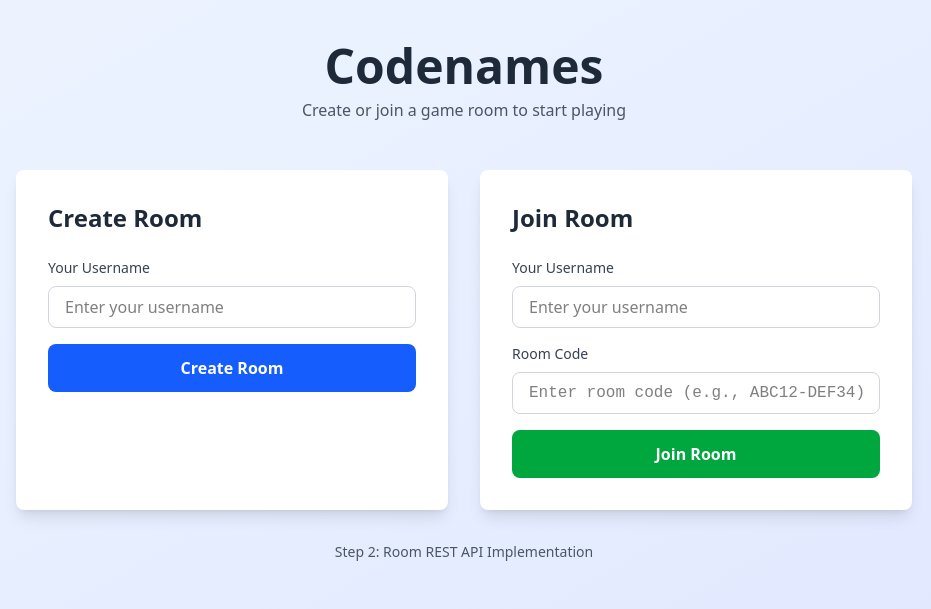
Test: HomePage › should show error when room code is empty
This screenshot has width=931, height=609.
Type "TestUser" into the 2nd field with placeholder "Enter your username".
click(696, 307); type("TestUser")  # box [512,286,880,328]
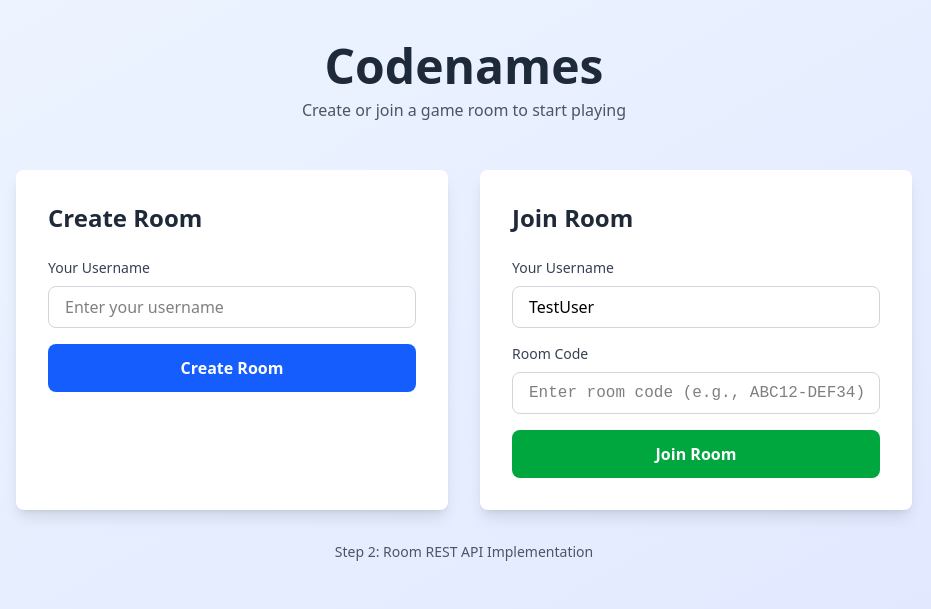
Click the button "Join Room".
click(696, 454)  # box [512,430,880,478]
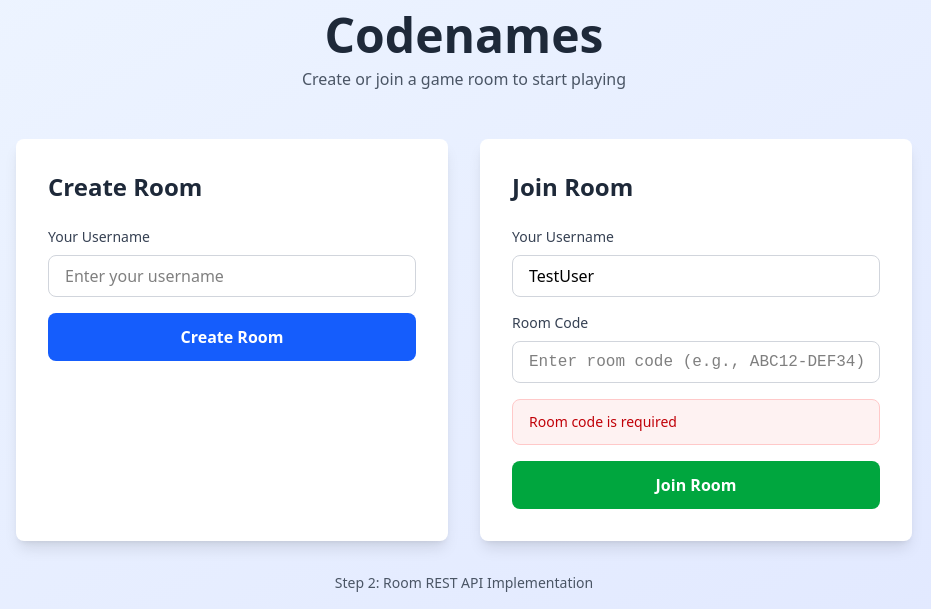
Expected: the text "Room code is required" is shown, [512,399,880,445]
